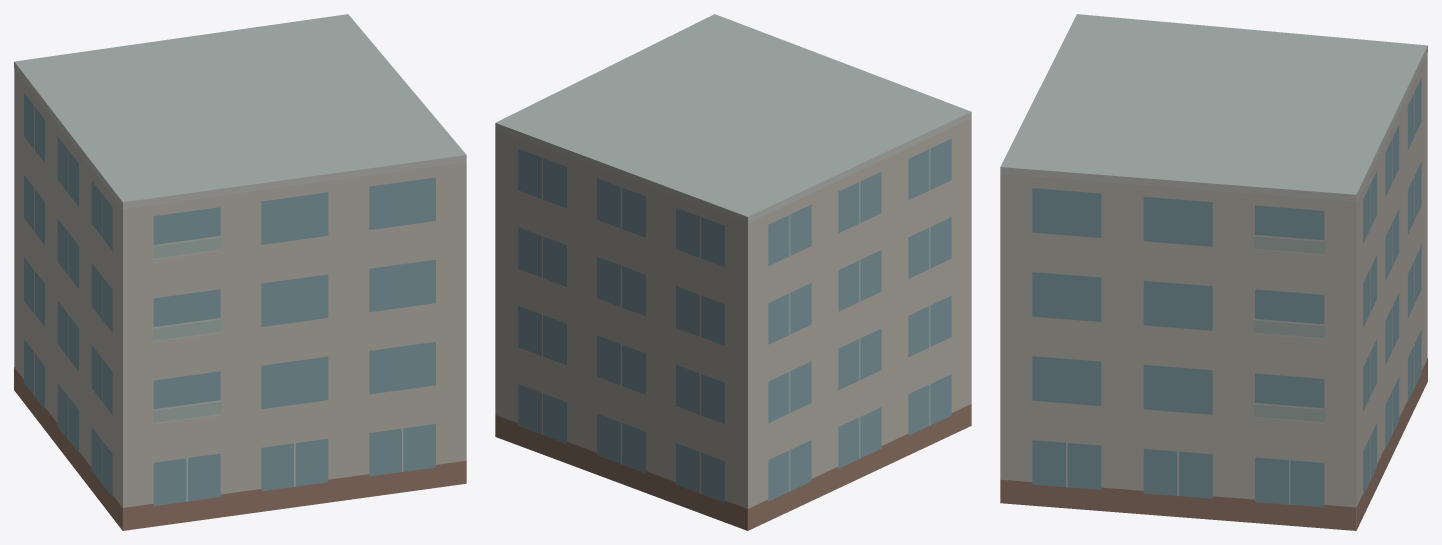
The model's file is survey-upis-32809968.glb.
3 views of the same model, side by side, from view 1: azimuth 30°, elevation 25°; view 2: azimuth 150°, elevation 25°; view 3: azimuth 270°, elevation 25° (orthographic). The views are drawn at different scales.
Visible parts, largest first — view 1: survey-upis-32809968.tmp; view 2: survey-upis-32809968.tmp; view 3: survey-upis-32809968.tmp.
Boxes of the visible parts, left/top/right/bottom form: survey-upis-32809968.tmp: left=14, top=14, right=466, bottom=530; survey-upis-32809968.tmp: left=495, top=14, right=971, bottom=530; survey-upis-32809968.tmp: left=1000, top=14, right=1427, bottom=530.
Bounding box in the file's own units: 13.5 × 11.7 × 13.5.
